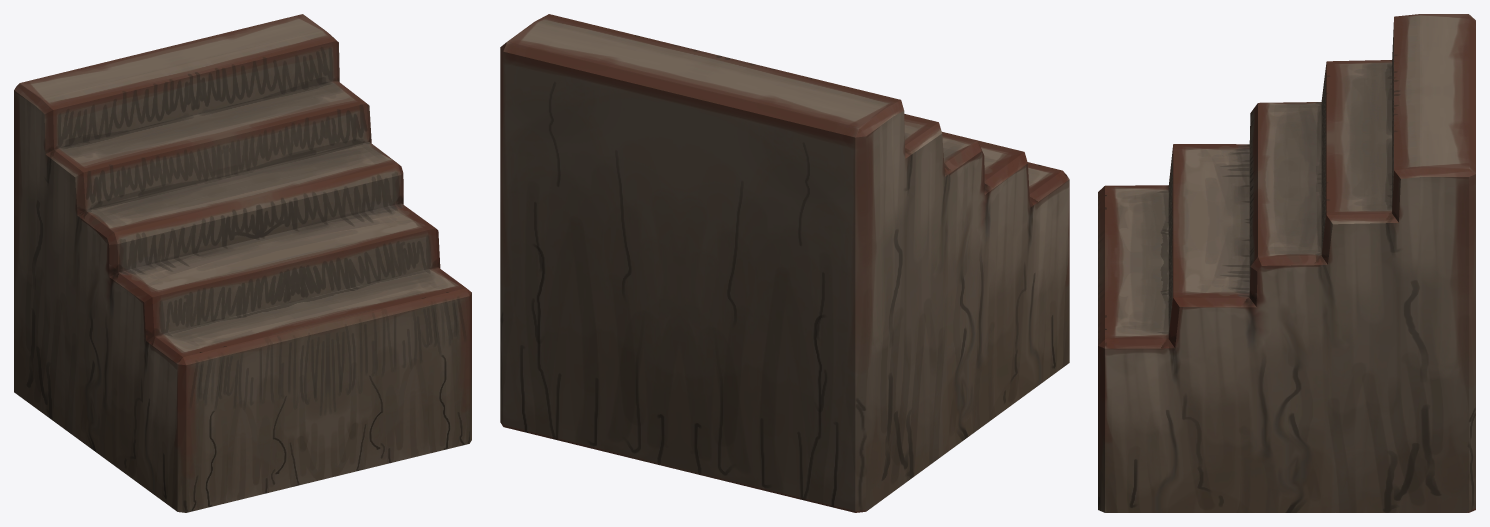
File: escaliers.fbx
The picture shows the model from 3 angles, left to right: view 1: azimuth 30°, elevation 25°; view 2: azimuth 150°, elevation 25°; view 3: azimuth 270°, elevation 25°; orthographic projection. The views are drawn at different scales.
Visible parts, largest first — view 1: Cube; view 2: Cube; view 3: Cube.
Boxes of the visible parts, x1,y1,x2,y2 form: Cube: (14,14,471,512); Cube: (500,14,1069,512); Cube: (1098,14,1475,512).
Size of the model in its own units: 100 by 99.94 by 100.
